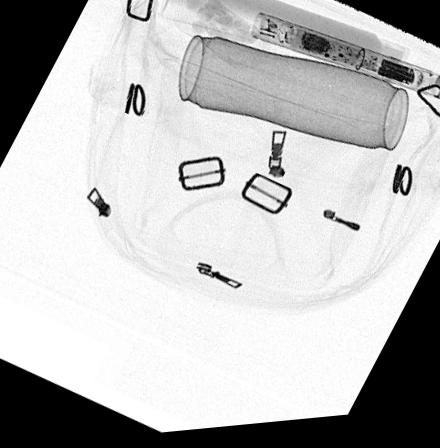Baton: (249, 15, 440, 110)
